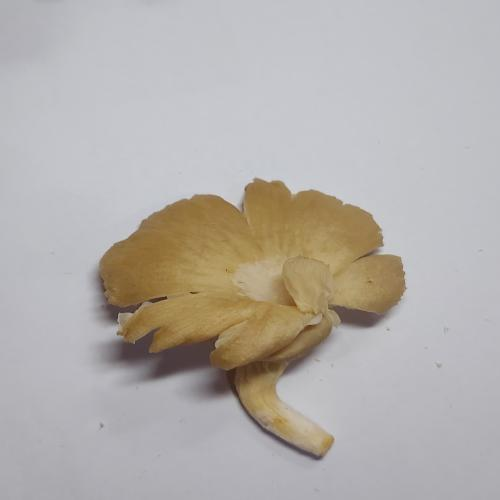Oyster Mushroom: (69, 109, 441, 461)
